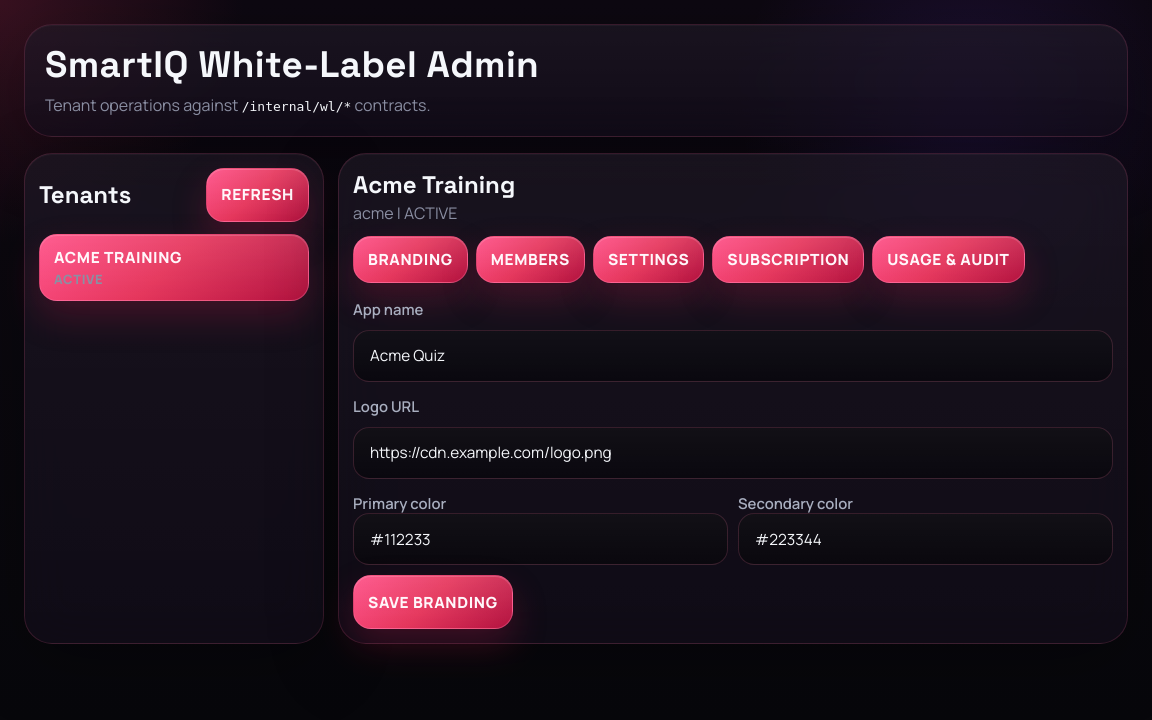
Test: AdminConsole › lists tenants and saves branding
expect the button "Acme Training ACTIVE" is shown: met, box [39,234,309,301]
expect the field labelled "Logo URL" holds "https://cdn.example.com/logo.png": met, box [353,426,1113,478]
Step 1. Replace the text in the field labelled "App name" with "Acme SmartIQ" → (733, 356), box [353,330,1113,382]
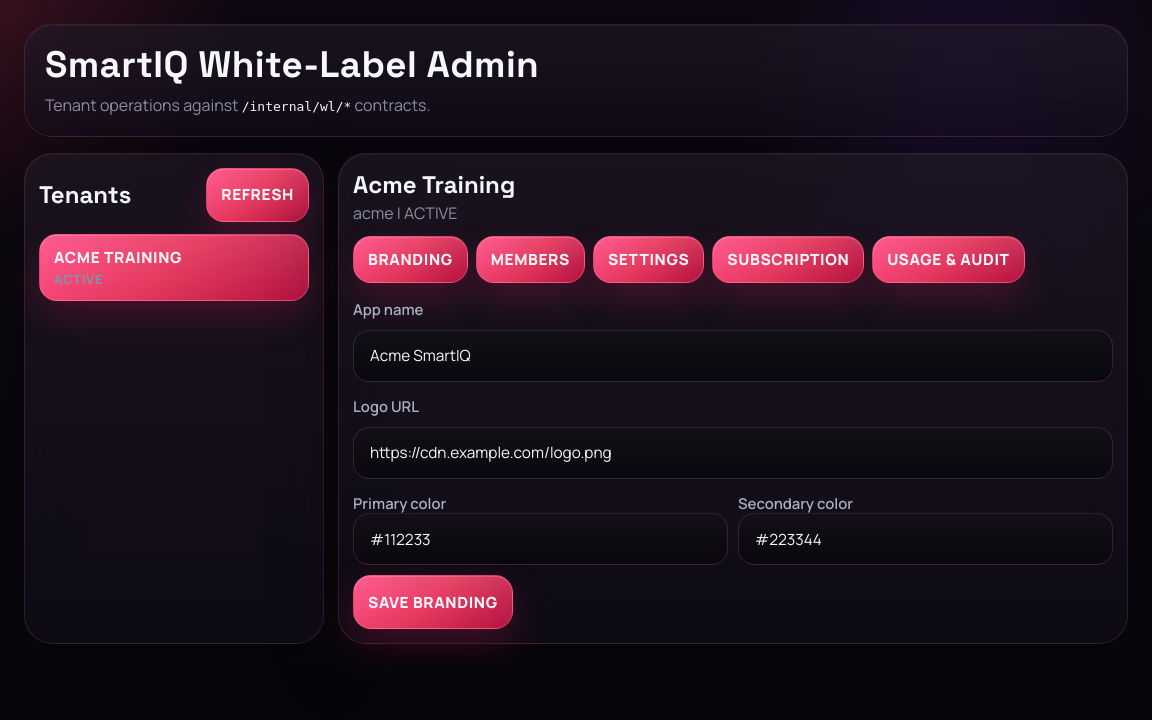
Step 2. Click the button "Save branding" → (433, 602), box [353,575,513,629]
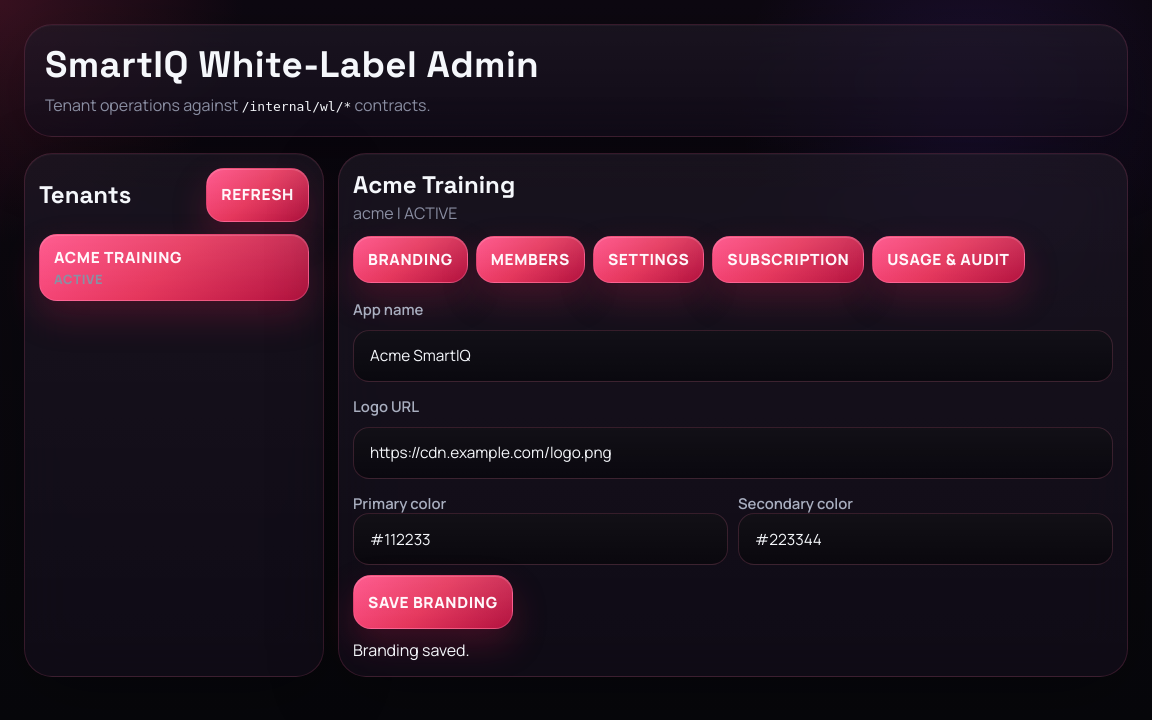
expect the text with test id "branding-feedback" reads "Branding saved.": met, box [353,639,470,661]
